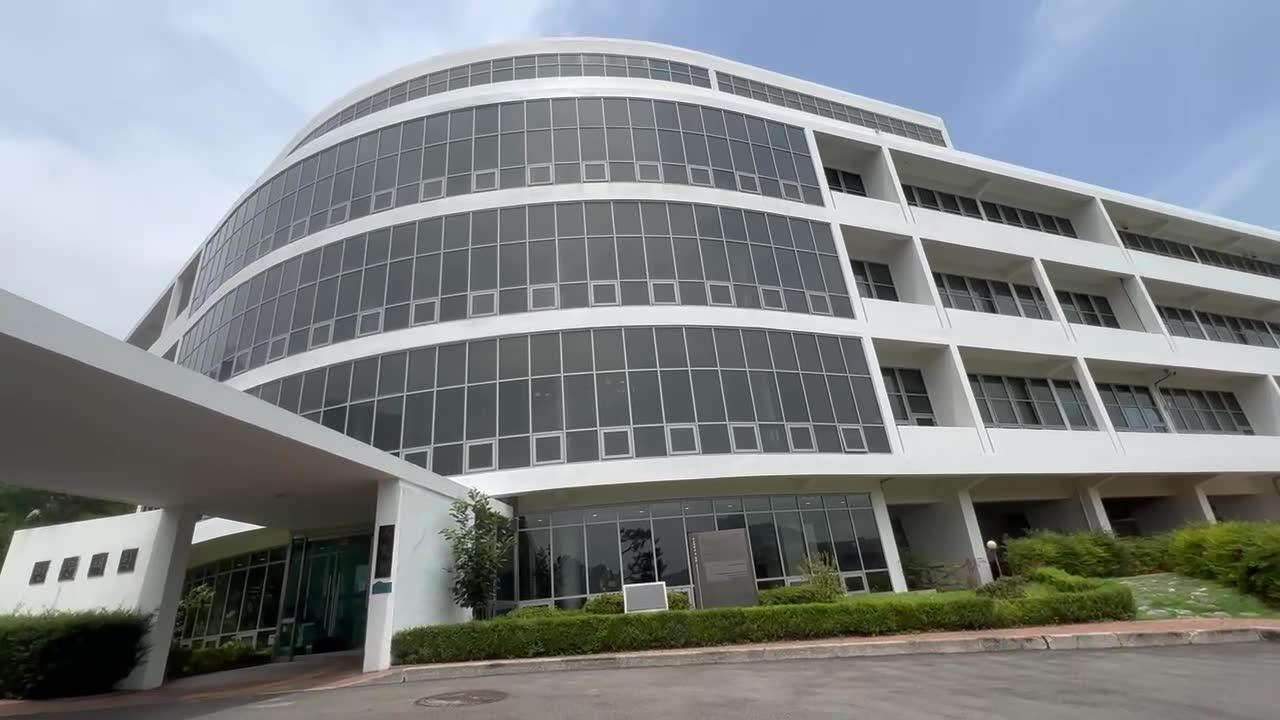building: (371, 31, 1177, 518)
